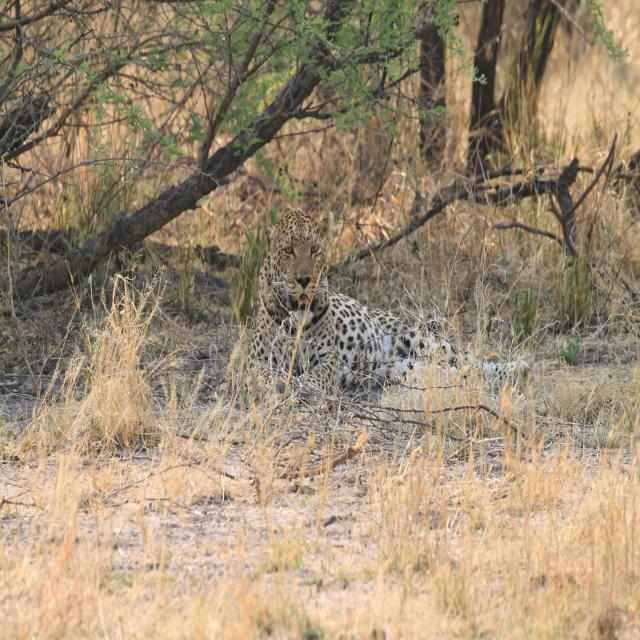Leopard: (237, 216, 502, 412)
